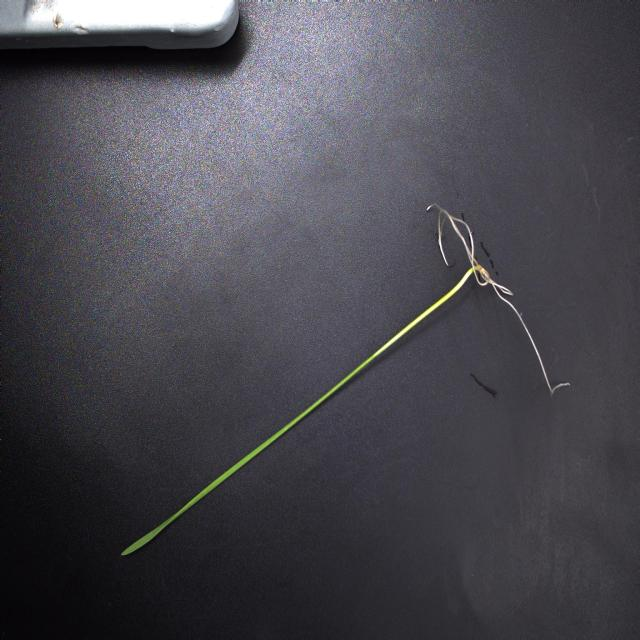leaf: (119, 355, 367, 559)
root: (424, 203, 573, 396)
stem: (365, 268, 475, 364)
